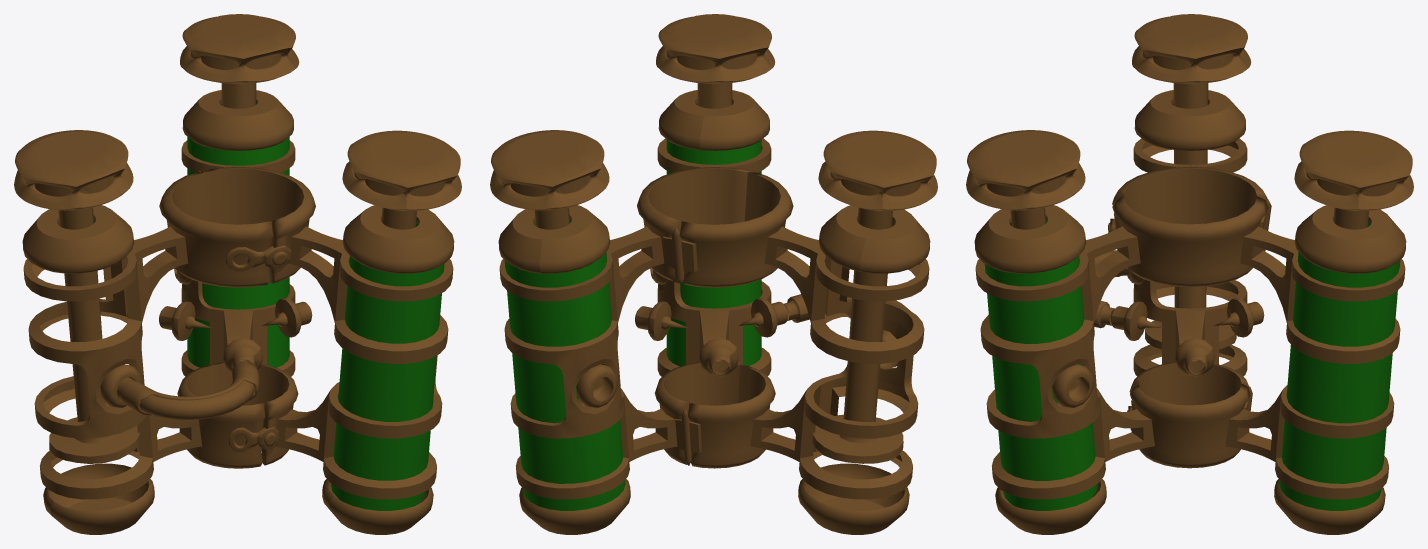
File: Shpritz.fbx
The picture shows the model from 3 angles, left to right: view 1: azimuth 30°, elevation 25°; view 2: azimuth 150°, elevation 25°; view 3: azimuth 270°, elevation 25°; orthographic projection.
Visible parts, largest first — view 1: Shpritz0099_low, Shpritz002_low, Shpritz000_low, Shpritz005_low, Shpritz003_low, Shpritz001_low, Shpritz0088_low; view 2: Shpritz0099_low, Shpritz002_low, Shpritz000_low, Shpritz003_low, Shpritz005_low, Shpritz0088_low; view 3: Shpritz002_low, Shpritz000_low, Shpritz0099_low, Shpritz003_low, Shpritz005_low, Shpritz0088_low.
Boxes of the visible parts, bbox=[...] form: Shpritz0099_low: bbox=[22, 171, 312, 534]; Shpritz002_low: bbox=[181, 90, 454, 534]; Shpritz000_low: bbox=[14, 14, 461, 463]; Shpritz005_low: bbox=[331, 221, 444, 510]; Shpritz003_low: bbox=[187, 103, 289, 367]; Shpritz001_low: bbox=[225, 245, 291, 451]; Shpritz0088_low: bbox=[100, 268, 190, 408]; Shpritz0099_low: bbox=[635, 172, 930, 534]; Shpritz002_low: bbox=[498, 90, 771, 534]; Shpritz000_low: bbox=[490, 14, 937, 463]; Shpritz003_low: bbox=[504, 220, 625, 510]; Shpritz005_low: bbox=[666, 139, 761, 366]; Shpritz0088_low: bbox=[576, 267, 901, 408]; Shpritz002_low: bbox=[974, 196, 1406, 534]; Shpritz000_low: bbox=[966, 14, 1413, 349]; Shpritz0099_low: bbox=[1094, 90, 1271, 411]; Shpritz003_low: bbox=[1279, 221, 1400, 510]; Shpritz005_low: bbox=[984, 220, 1097, 510]; Shpritz0088_low: bbox=[1052, 270, 1142, 408].
Bounding box in the file's own units: 28.89 × 29.57 × 31.56.
